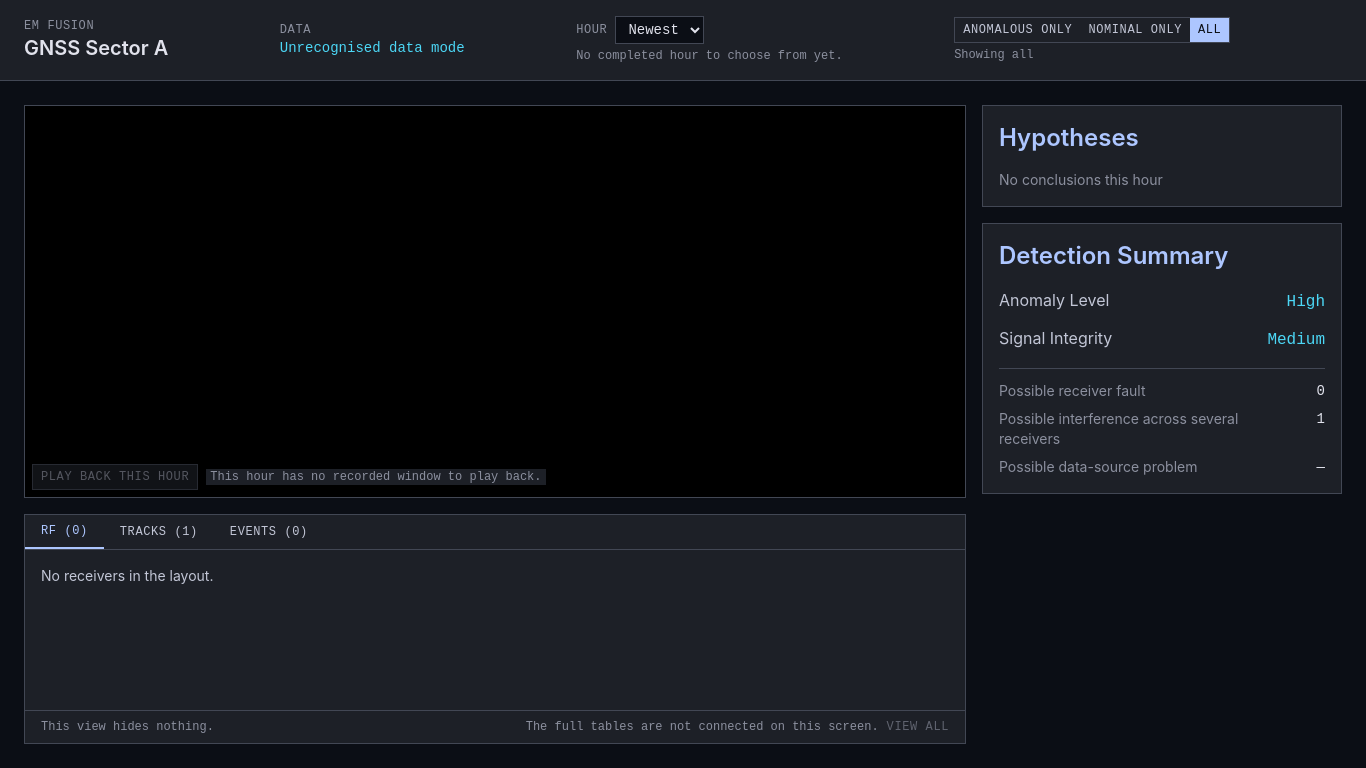
Test: the columns › say an absent altitude was not reported, never a dash
Step 1. Click the tab "Tracks (1)" → (159, 532), box [104,515,214,549]
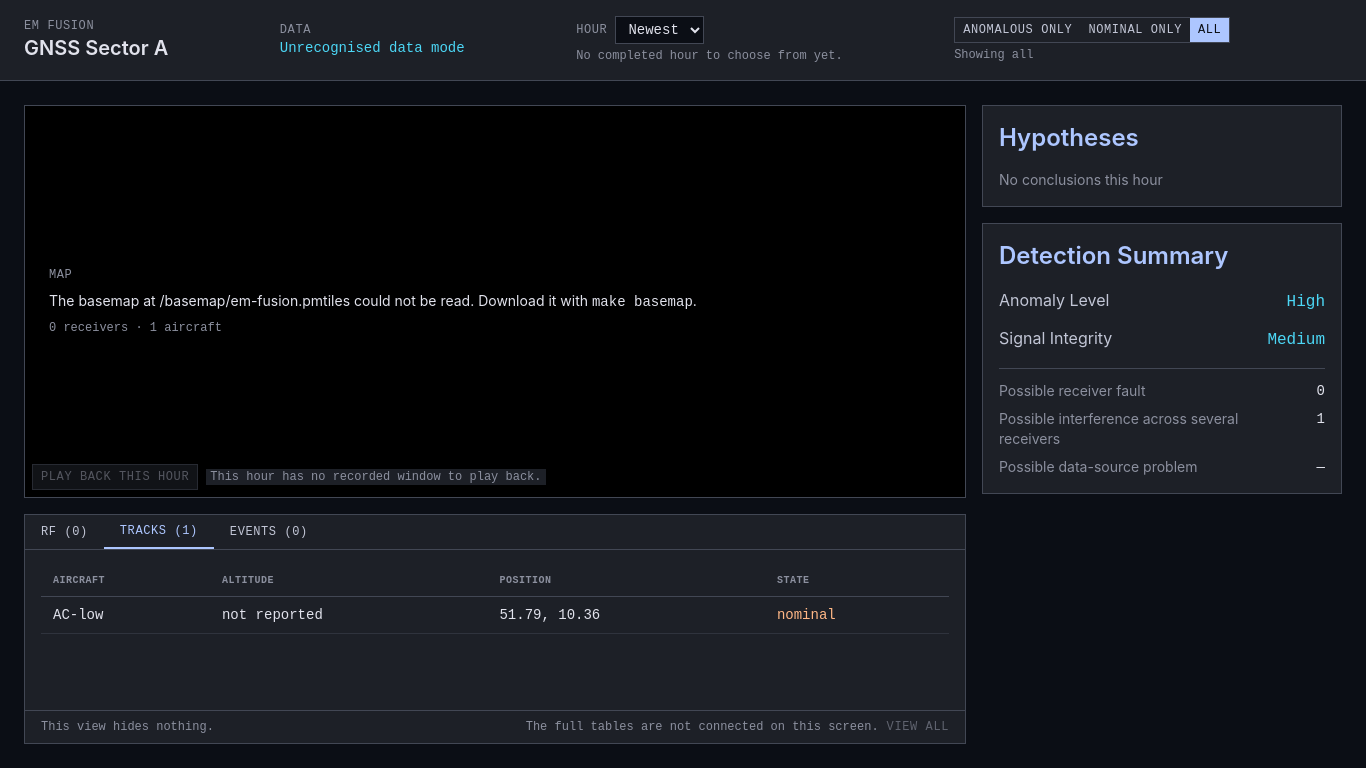
expect the text "not reported" is shown: met, box [210,597,488,634]
